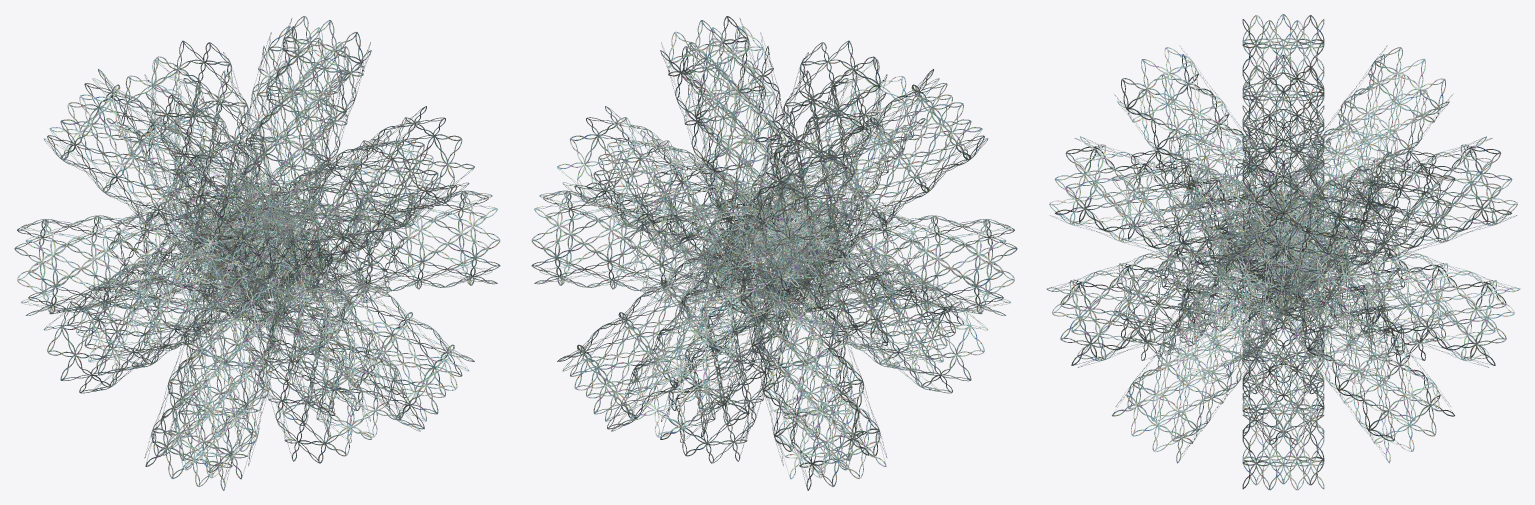
File: GreatDodecahemicosacron13.gltf
3 views of the same model, side by side, from view 1: azimuth 30°, elevation 25°; view 2: azimuth 150°, elevation 25°; view 3: azimuth 270°, elevation 25° (orthographic).
Visible parts, largest first — view 1: GreatDodecahemicosacron1; view 2: GreatDodecahemicosacron1; view 3: GreatDodecahemicosacron1.
Part boxes in pixels (bbox=[...]): GreatDodecahemicosacron1: bbox=[14, 16, 500, 490]; GreatDodecahemicosacron1: bbox=[531, 16, 1017, 490]; GreatDodecahemicosacron1: bbox=[1046, 14, 1520, 490].
Size of the model in its own units: 10.06 by 10.06 by 10.06.
Materials: 1 (1 with a texture image).
